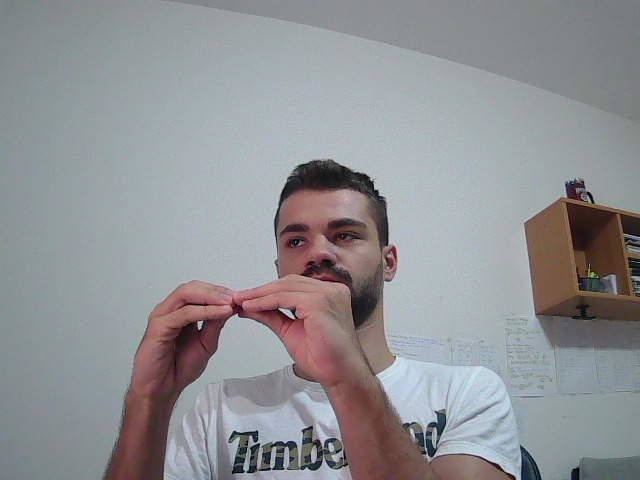b: (93, 273, 415, 449)
